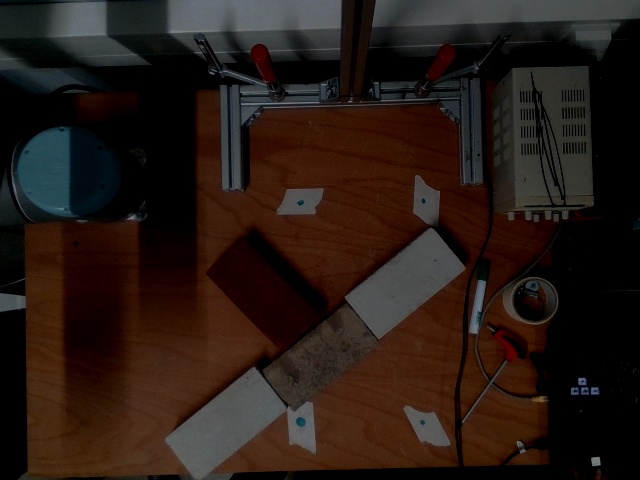brick: (169, 373, 280, 476), (349, 233, 459, 333), (213, 243, 314, 349), (266, 307, 372, 404)
